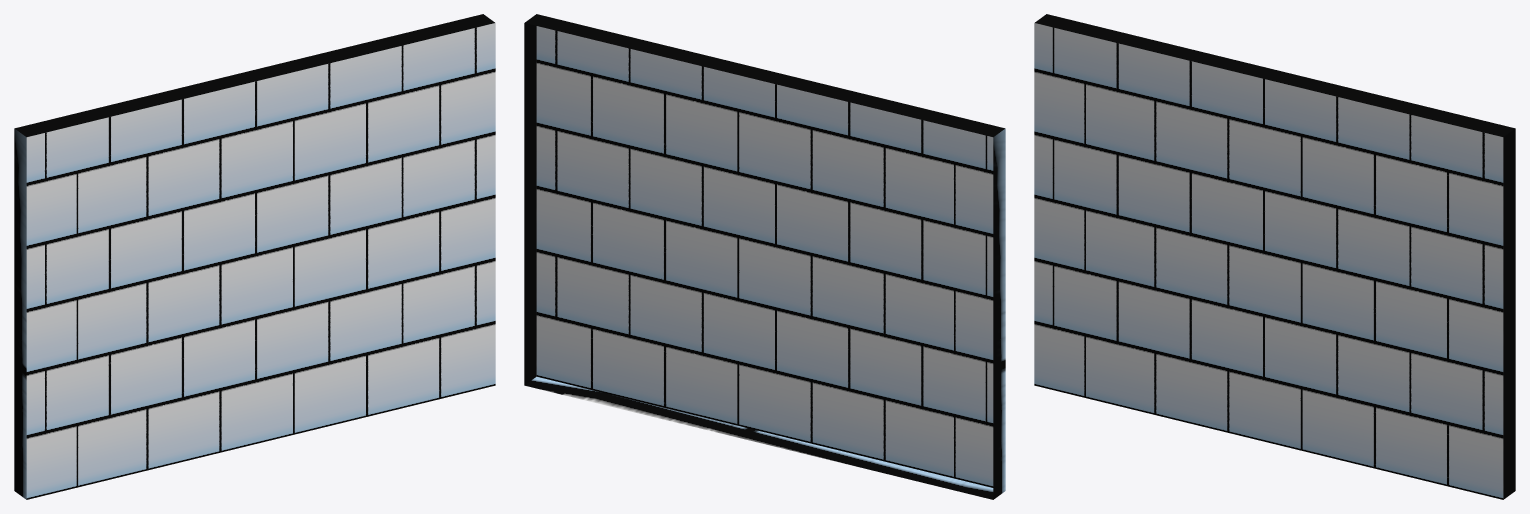
The model's file is Tiled_Wall.fbx.
3 views of the same model, side by side, from view 1: azimuth 30°, elevation 25°; view 2: azimuth 150°, elevation 25°; view 3: azimuth 330°, elevation 25° (orthographic).
Visible parts, largest first — view 1: Tile_Wall; view 2: Tile_Wall; view 3: Tile_Wall.
Boxes of the visible parts, box(x1,y1,x2,y2) form: Tile_Wall: box(14, 14, 495, 499); Tile_Wall: box(524, 14, 1005, 499); Tile_Wall: box(1034, 14, 1515, 499).
Size of the model in its own units: 11.92 by 8.81 by 0.5371.
